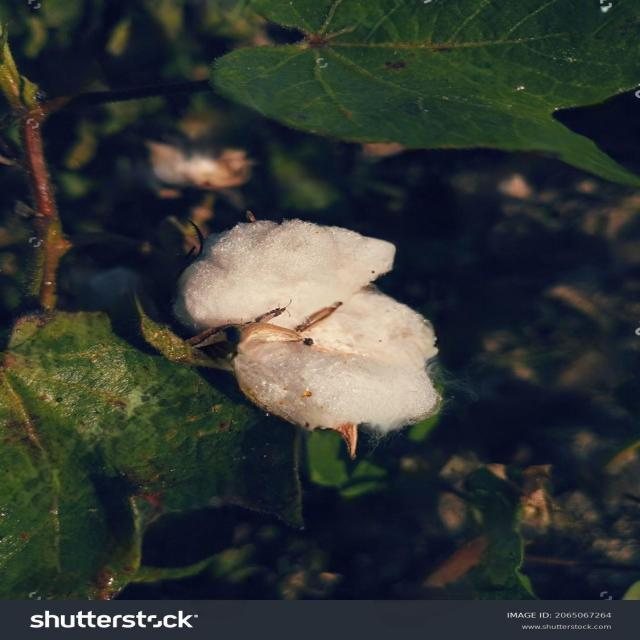Leaf: (168, 204, 464, 477)
